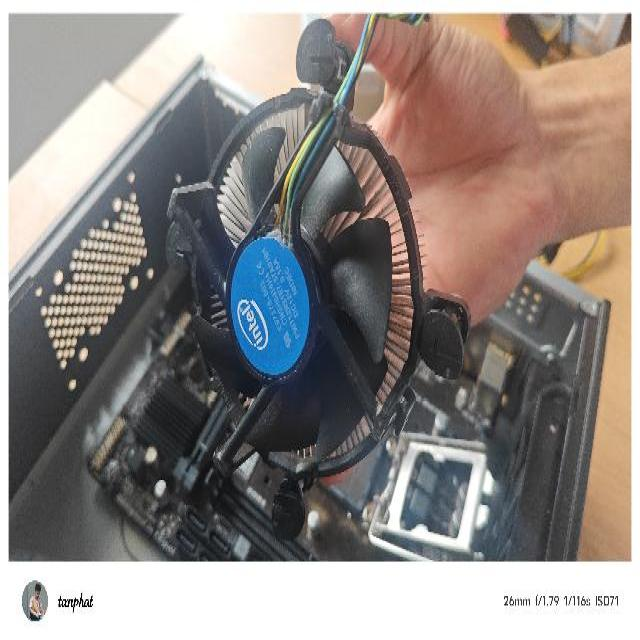CPU_Fan: (162, 18, 472, 544)
